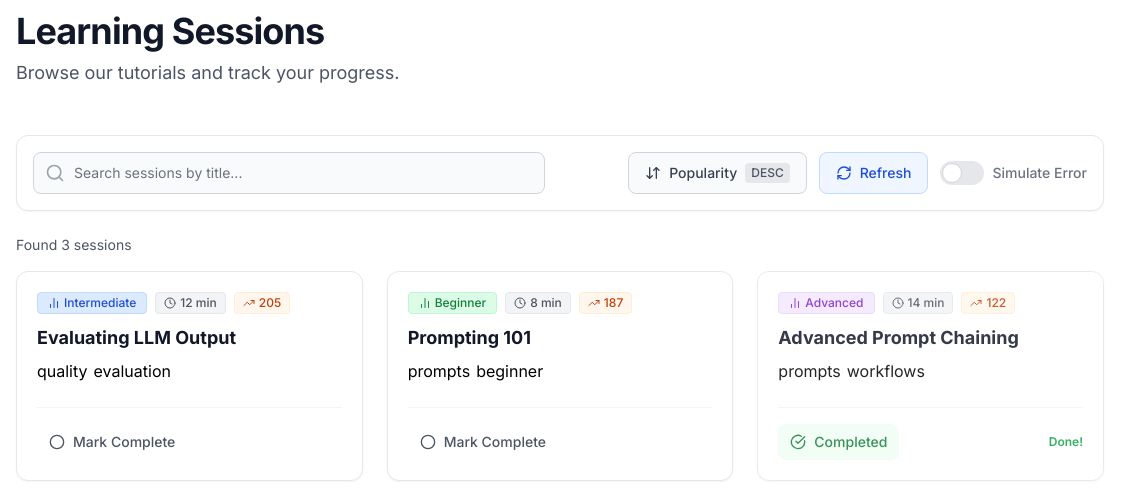
Test: Learning Sessions Browser - User Behavior › maintains completion status after search
The width and height of the screenshot is (1121, 498).
Expected: the heading "Prompting 101" is shown, [408, 327, 531, 348]
Click the button named "mark \"prompting 101\" as complete". click: [483, 442]
box: [408, 424, 558, 460]
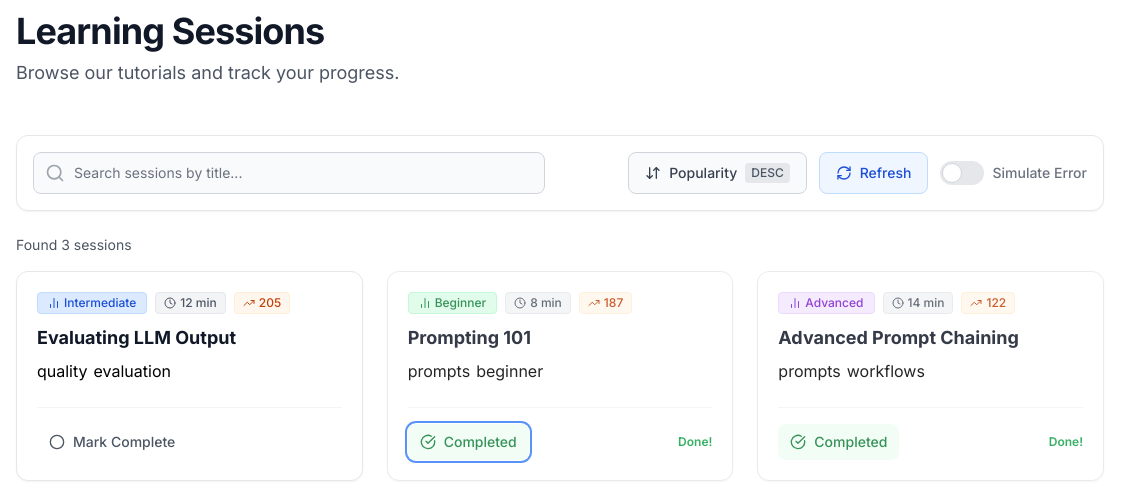
Expected: the button named "mark \"prompting 101\" as complete" reads "Completed", [408, 424, 529, 460]
Note: Search for something else
Type "advanced" into the field labelled "Search sessions by title". click: [289, 173]
box: [33, 152, 545, 194]
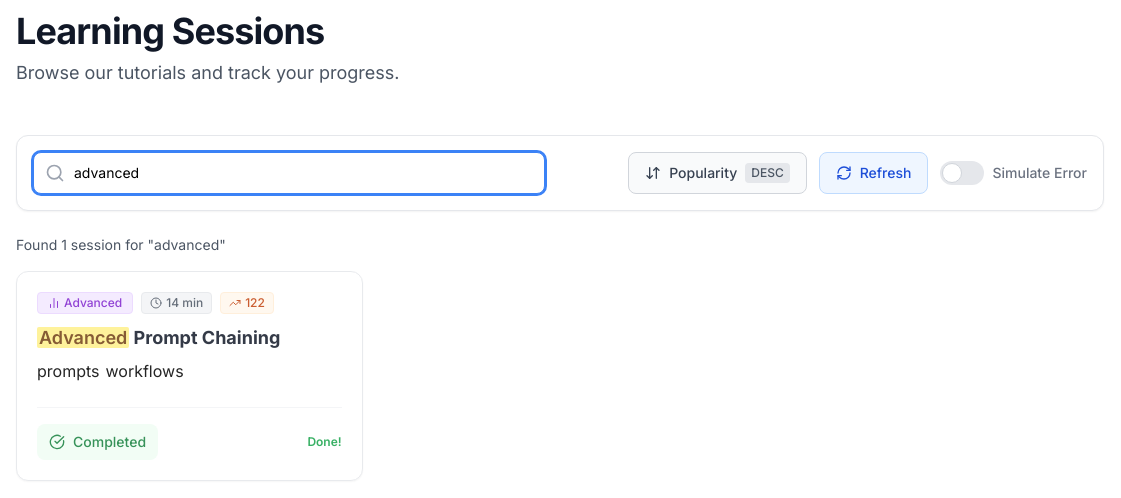
Expected: the heading "Prompting 101" is gone
Note: Clear search
Clear the field named "Search sessions by title". click: [289, 173]
box: [33, 152, 545, 194]
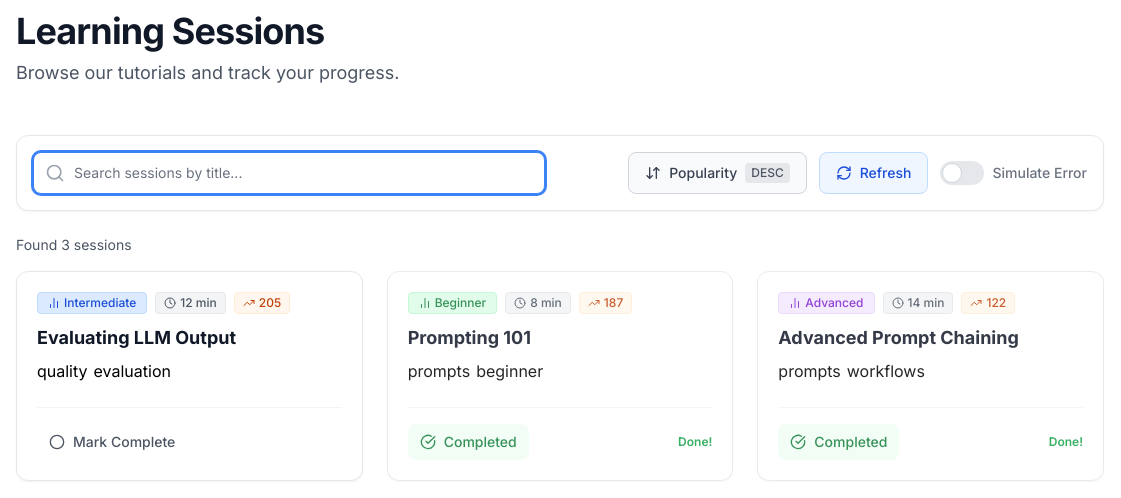
Expected: the heading "Prompting 101" is shown, [408, 327, 531, 348]
Expected: the button named "mark \"prompting 101\" as incomplete" reads "Completed", [408, 424, 529, 460]
